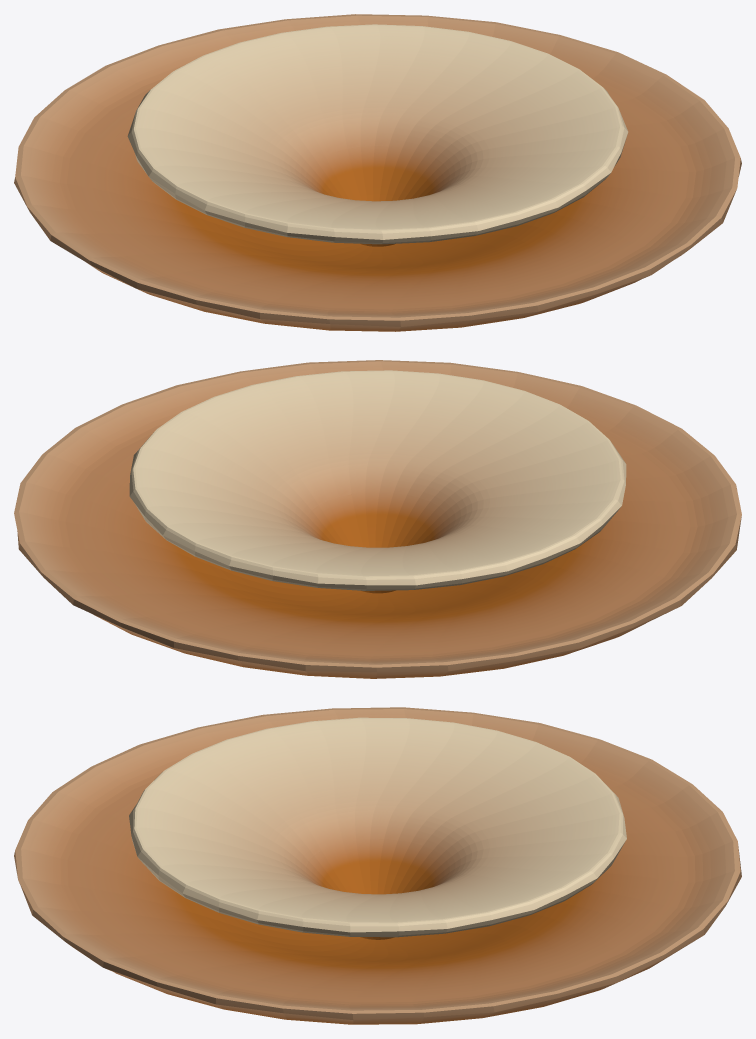
File: Object_Coral_06.fbx
The picture shows the model from 3 angles, top to bottom: view 1: azimuth 30°, elevation 25°; view 2: azimuth 150°, elevation 25°; view 3: azimuth 270°, elevation 25°; orthographic projection.
Parts seen in each view (by area): view 1: CoralBottom, CoralTop; view 2: CoralBottom, CoralTop; view 3: CoralBottom, CoralTop.
Part boxes in pixels (box(x1,y1,x2,y2)): CoralBottom: box(14, 14, 741, 331); CoralTop: box(127, 24, 628, 246); CoralBottom: box(14, 360, 741, 678); CoralTop: box(129, 370, 626, 593); CoralBottom: box(14, 707, 741, 1024); CoralTop: box(129, 717, 626, 939).
Bounding box in the file's own units: 951 × 178 × 951.
